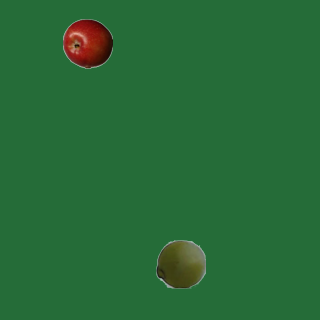Apple Braeburn: (62, 18, 112, 68)
Grape White 4: (155, 238, 205, 288)
